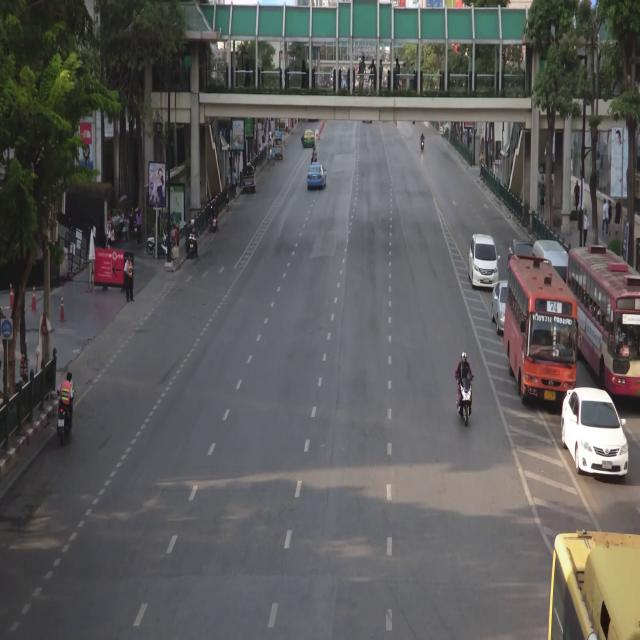bus: (506, 252, 576, 405), (572, 252, 640, 403), (548, 532, 640, 640)
car: (563, 392, 628, 481), (467, 232, 499, 291), (533, 237, 569, 278), (492, 280, 506, 336), (240, 165, 257, 197), (508, 242, 535, 259), (272, 134, 284, 160)
pedestrian: (124, 254, 135, 305), (135, 208, 144, 248), (601, 197, 609, 237), (583, 206, 589, 247), (615, 196, 621, 237), (230, 167, 237, 197), (539, 182, 545, 215), (574, 179, 580, 211), (607, 199, 612, 236), (107, 224, 114, 249), (268, 144, 272, 167), (226, 175, 229, 204), (263, 125, 267, 141)
taxi: (309, 164, 327, 190), (303, 129, 315, 148)
